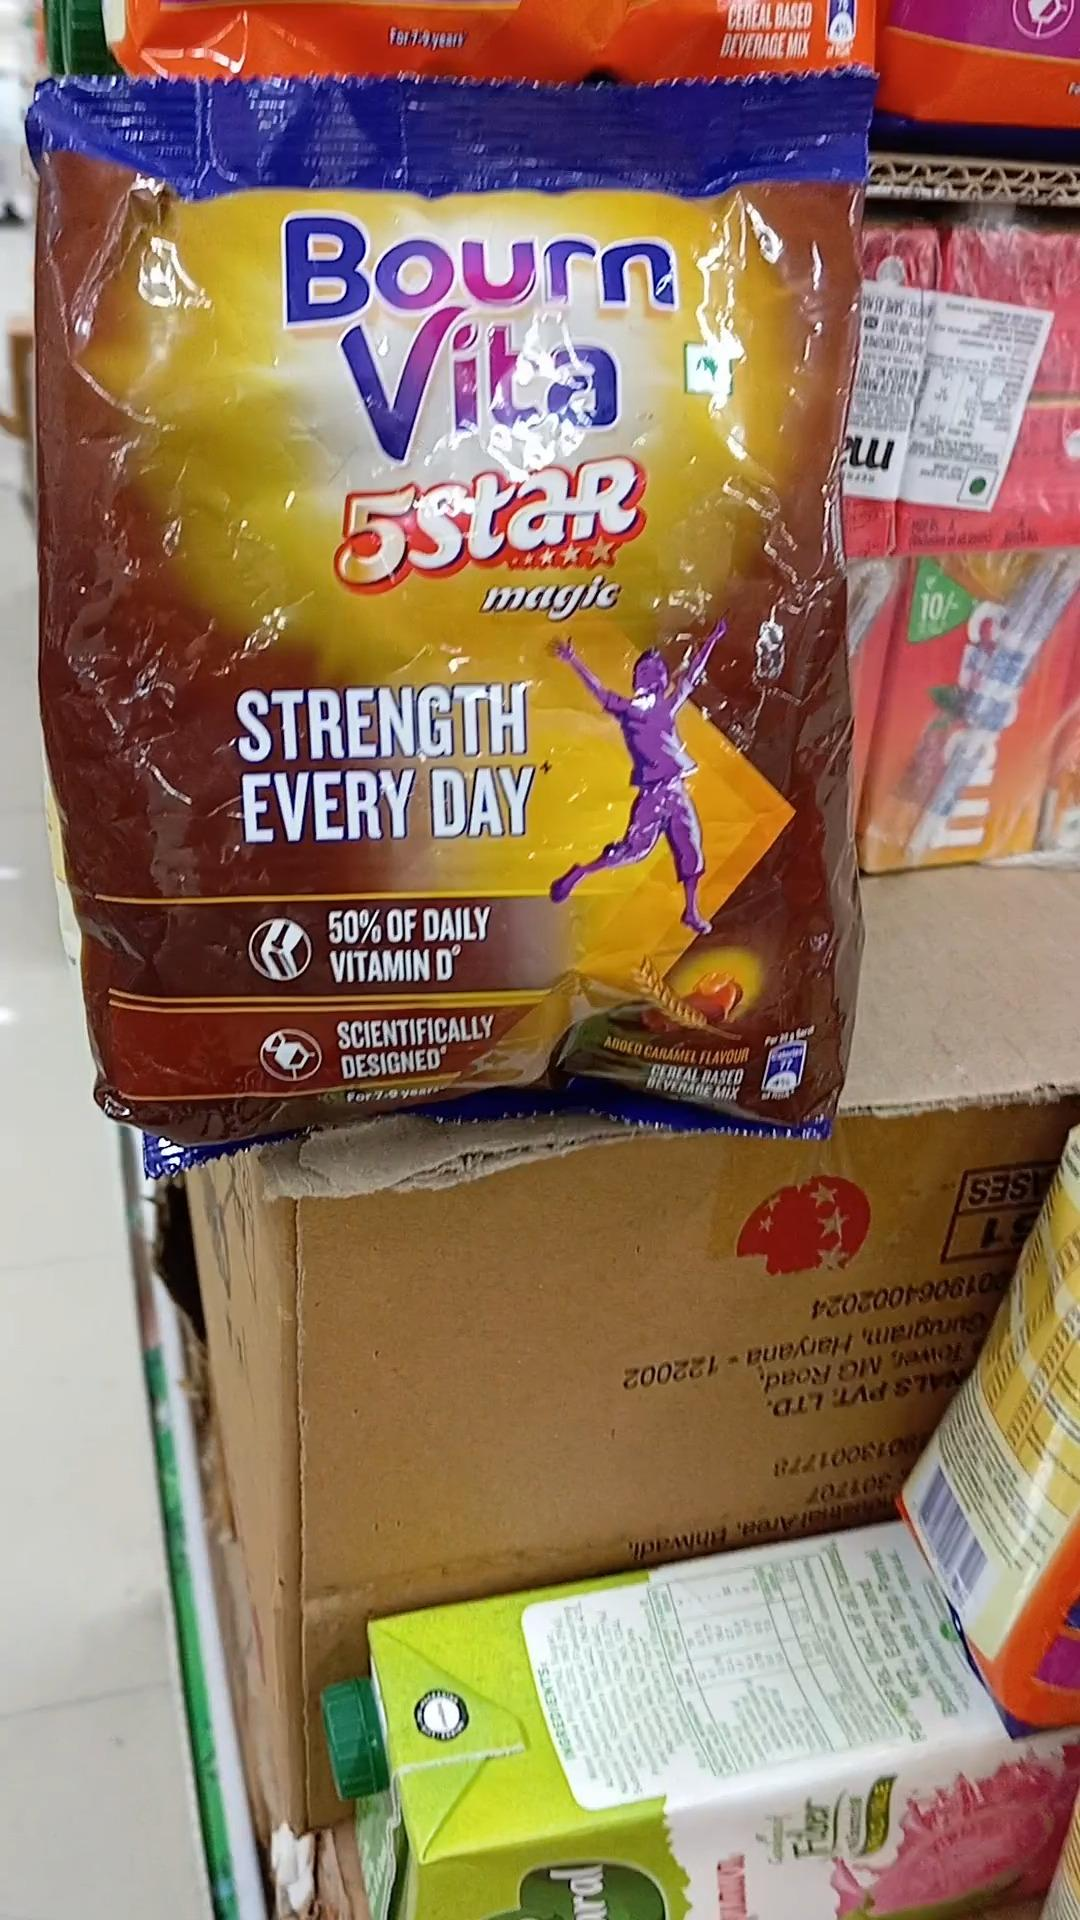BOURN_VITA_FIVE_STAR_MAGIC_500_G_POUCH: (38, 61, 866, 1121)
